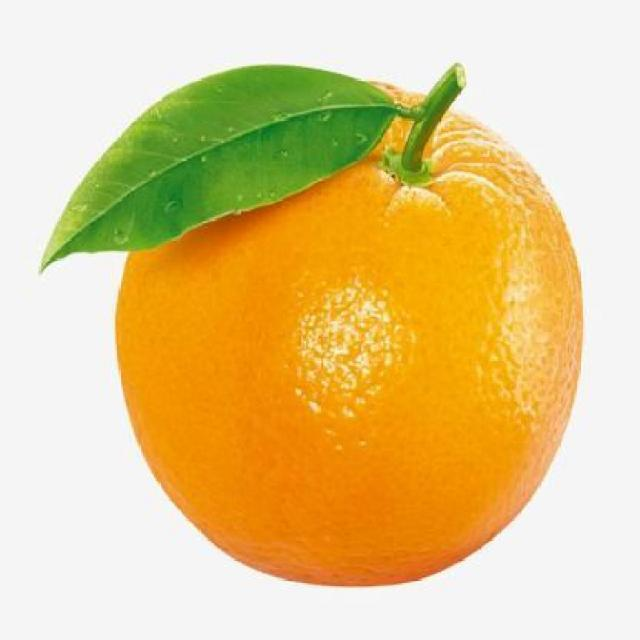Jeruk Sudah Matang: (106, 70, 589, 586)
